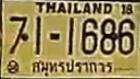1: (35, 16, 40, 54), (68, 17, 73, 54)
6: (117, 18, 134, 54), (81, 17, 97, 54)
7: (9, 15, 28, 53)
8: (99, 17, 117, 54)
SPK: (32, 59, 114, 78)
